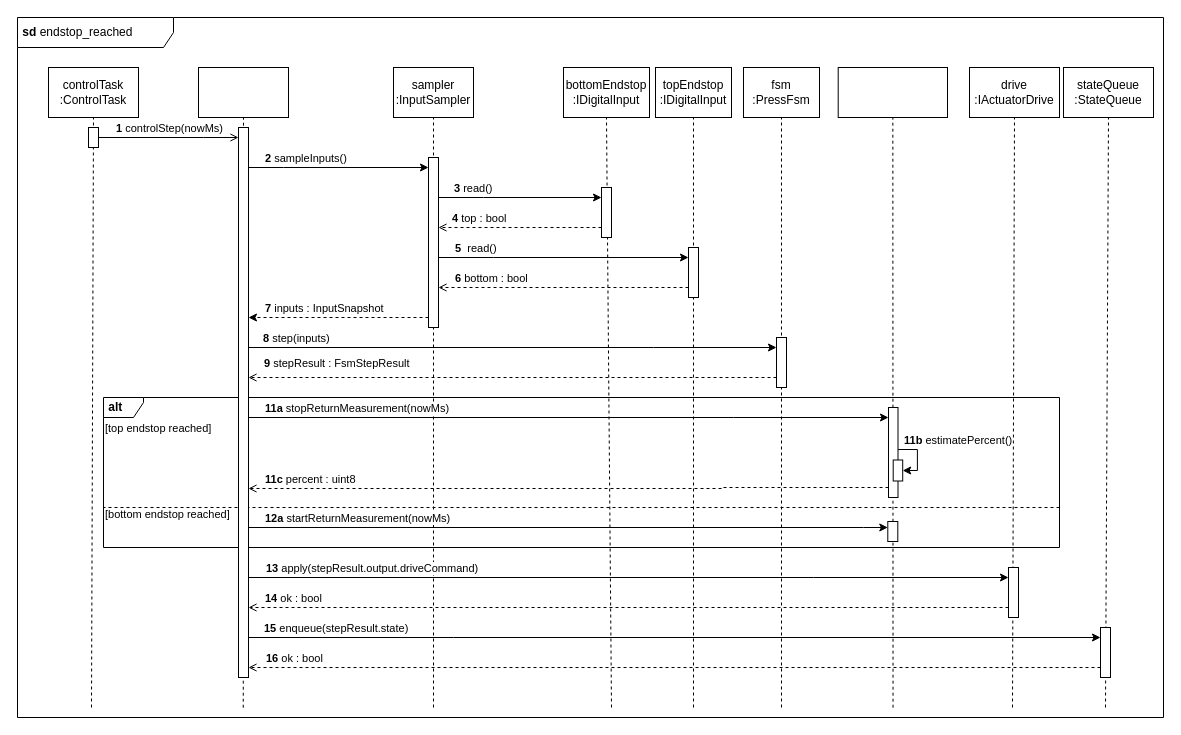
Some shapes in this 1181 by 735 pixel diagram are drawn without their labels. Each missing label, with the centre of its shape:
"control :PressController" belongs at [243,92].
"fill :FillLevelEstimator" belongs at [892,92].
